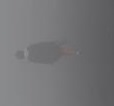person: (16, 40, 83, 64)
